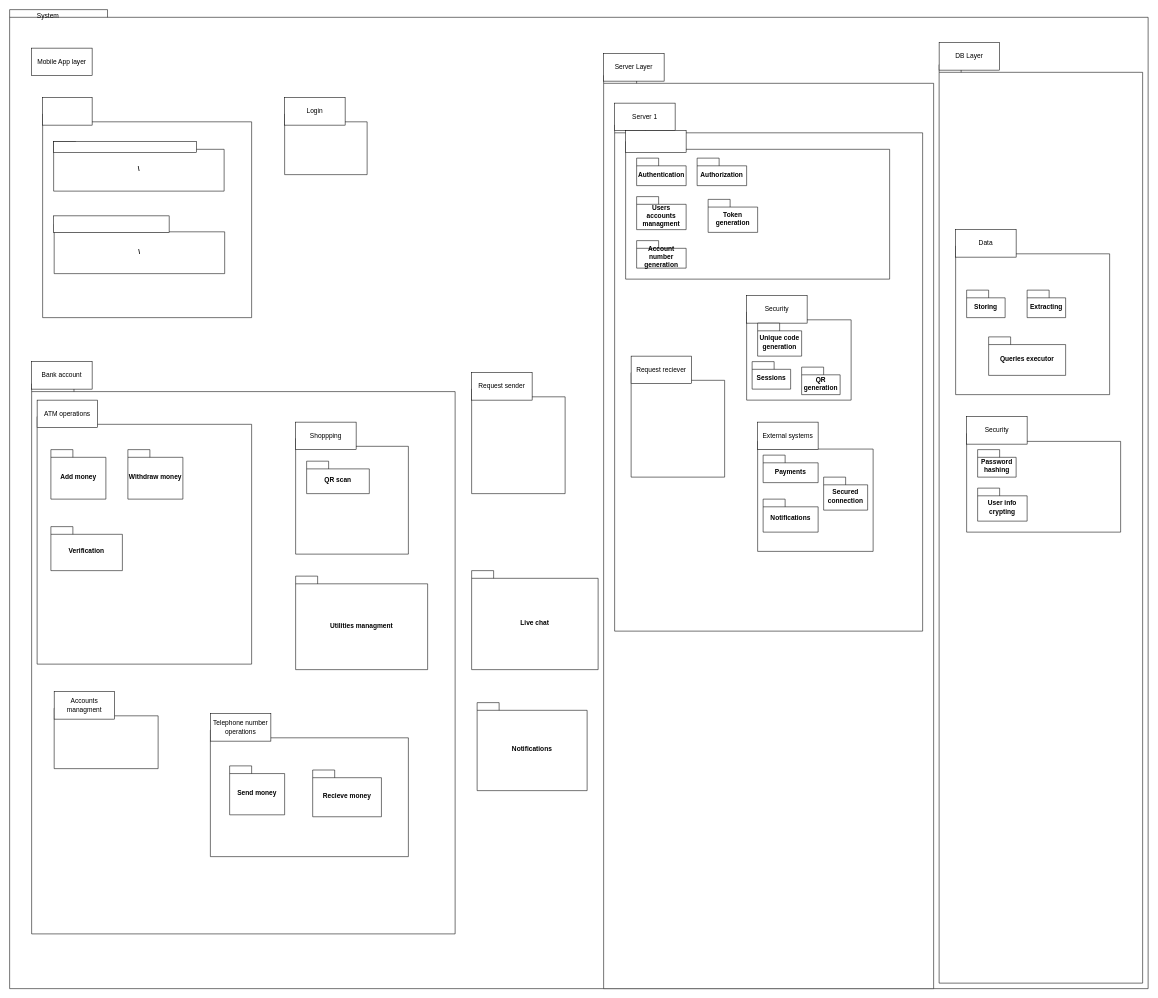
Image size: 1158x998. Some labels were removed from this diagram. Each missing label, with the centre of its shape:
"Account manager" goes at pixel 655 141.
"Account number request" goes at pixel 125 147.
"Registration" goes at pixel 67 111.
"Token request" goes at pixel 111 223.
